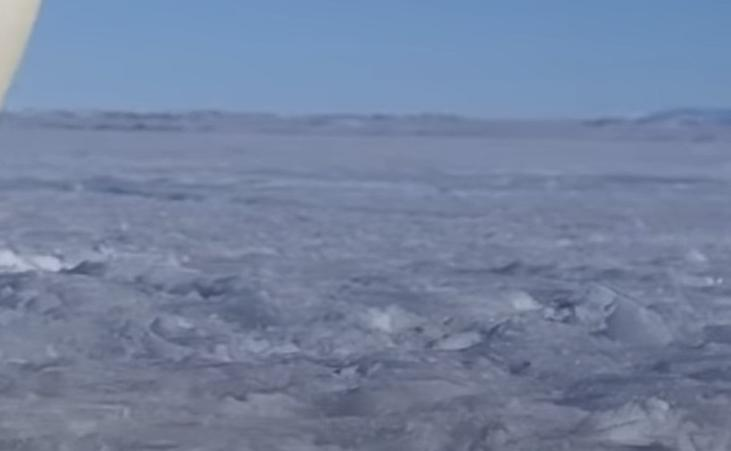Emperor Penguin: (0, 0, 224, 402)
